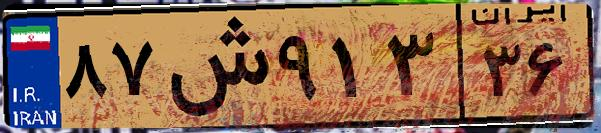1: (330, 28, 385, 110)
3: (385, 28, 445, 110), (475, 38, 525, 113)
6: (525, 38, 570, 115)
7: (110, 28, 158, 98)
8: (57, 26, 110, 100)
9: (270, 28, 330, 110)
ش: (158, 12, 270, 120)
